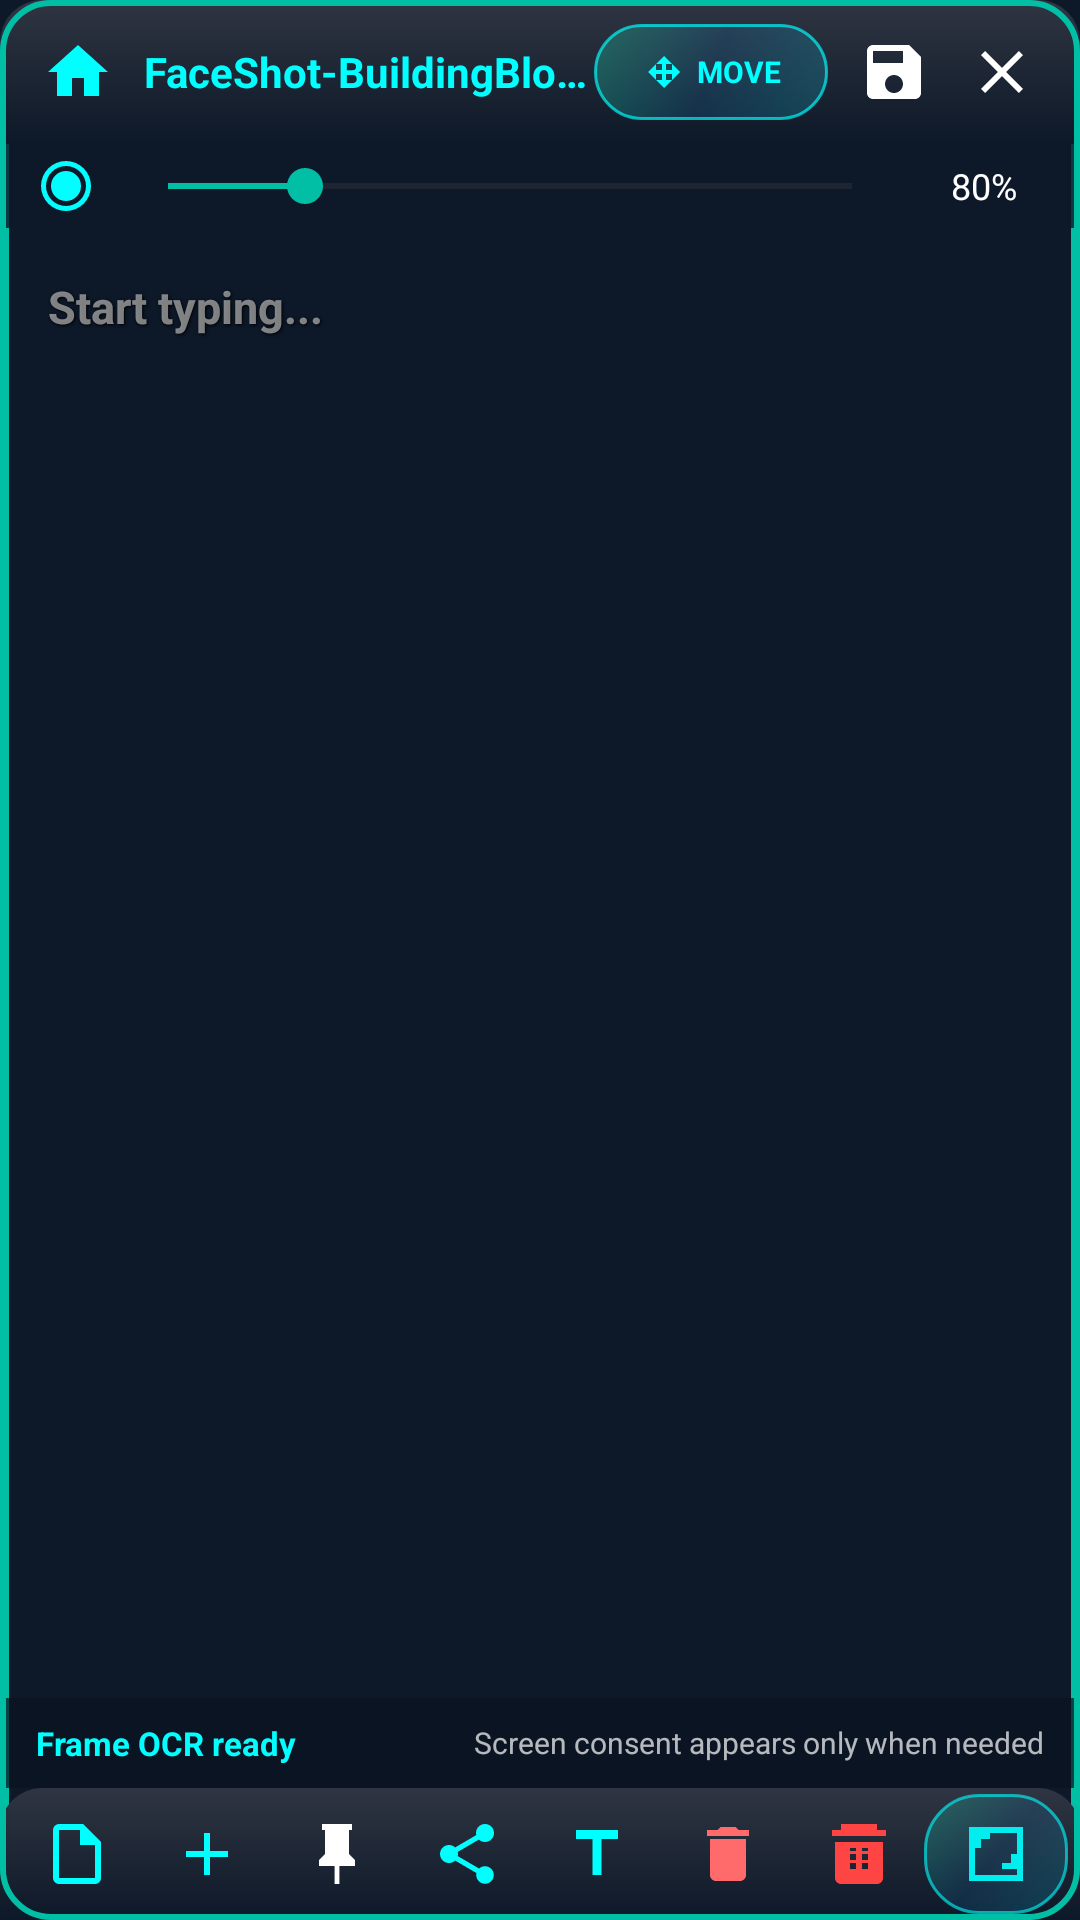

Icons on this 1080w x 1920h Android screen, each with the point to tap as (x,y):
Close notepad: (1002,55)
drag handle: (664,72)
Drag this corner to resize the floating notepad: (996,1854)
Return to app: (78,70)
Save note: (894,72)
